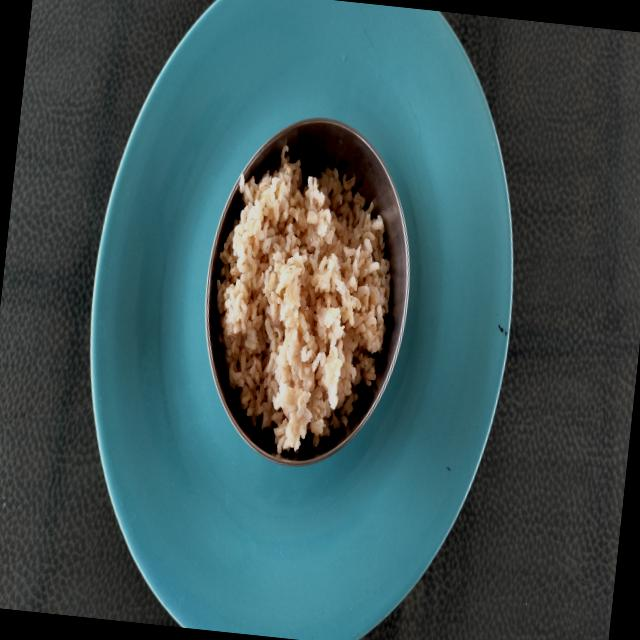brown-rice: (216, 146, 390, 453)
